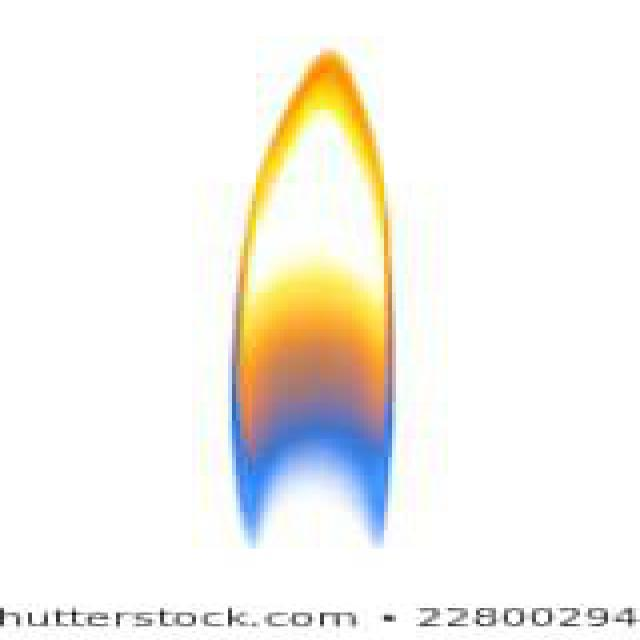Fire: (230, 49, 394, 545)
